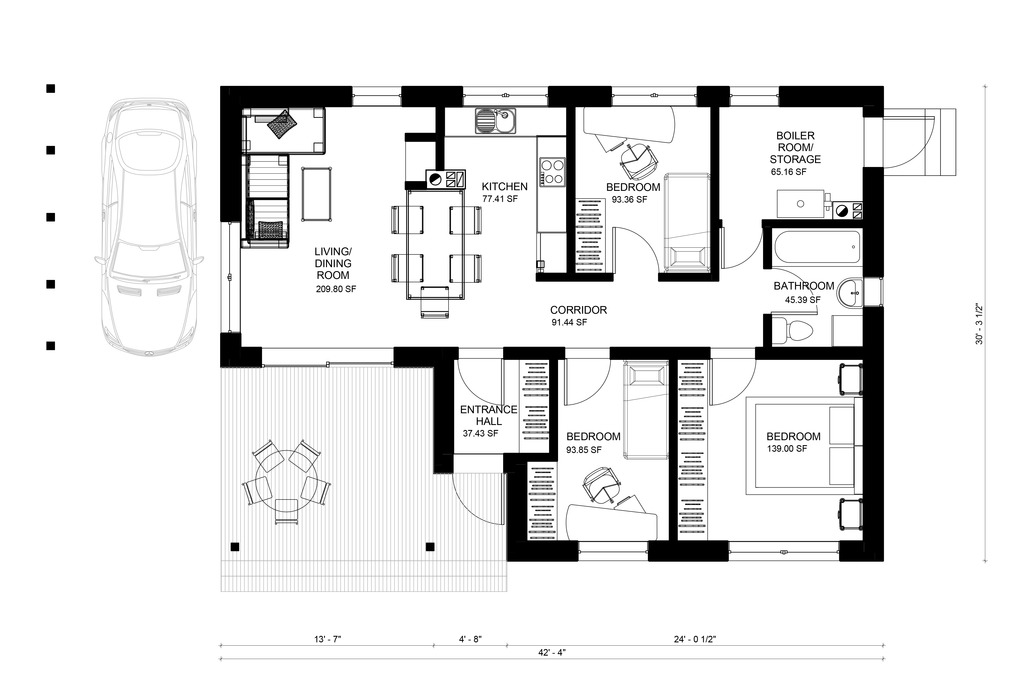bed: (741, 395, 869, 500), (654, 178, 719, 279)
door: (437, 459, 514, 537), (543, 339, 614, 412), (705, 339, 761, 409), (604, 223, 661, 287), (457, 344, 514, 408), (757, 267, 821, 317), (717, 215, 765, 272)
large_sink: (765, 309, 820, 349)
round_table: (241, 417, 352, 537)
small_sink: (838, 267, 887, 309)
stairs: (859, 111, 974, 181)
tub: (770, 227, 865, 261)
window: (611, 84, 705, 118), (457, 82, 550, 108), (721, 77, 781, 116), (342, 84, 406, 112)
